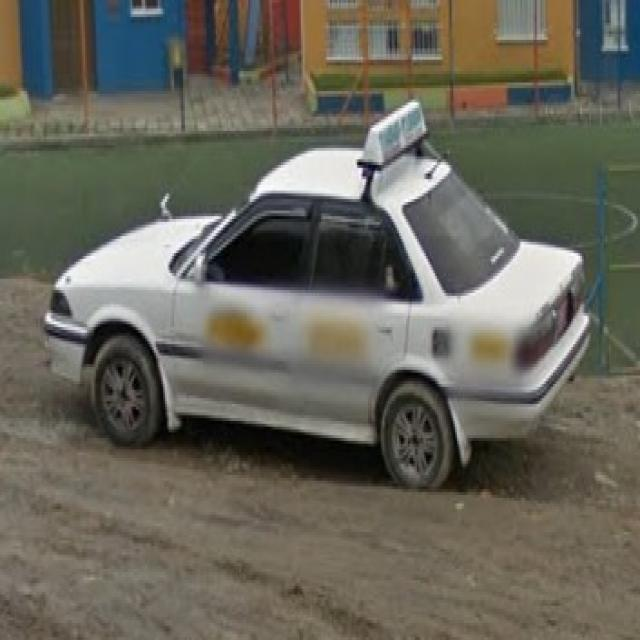Car: (54, 126, 591, 480)
